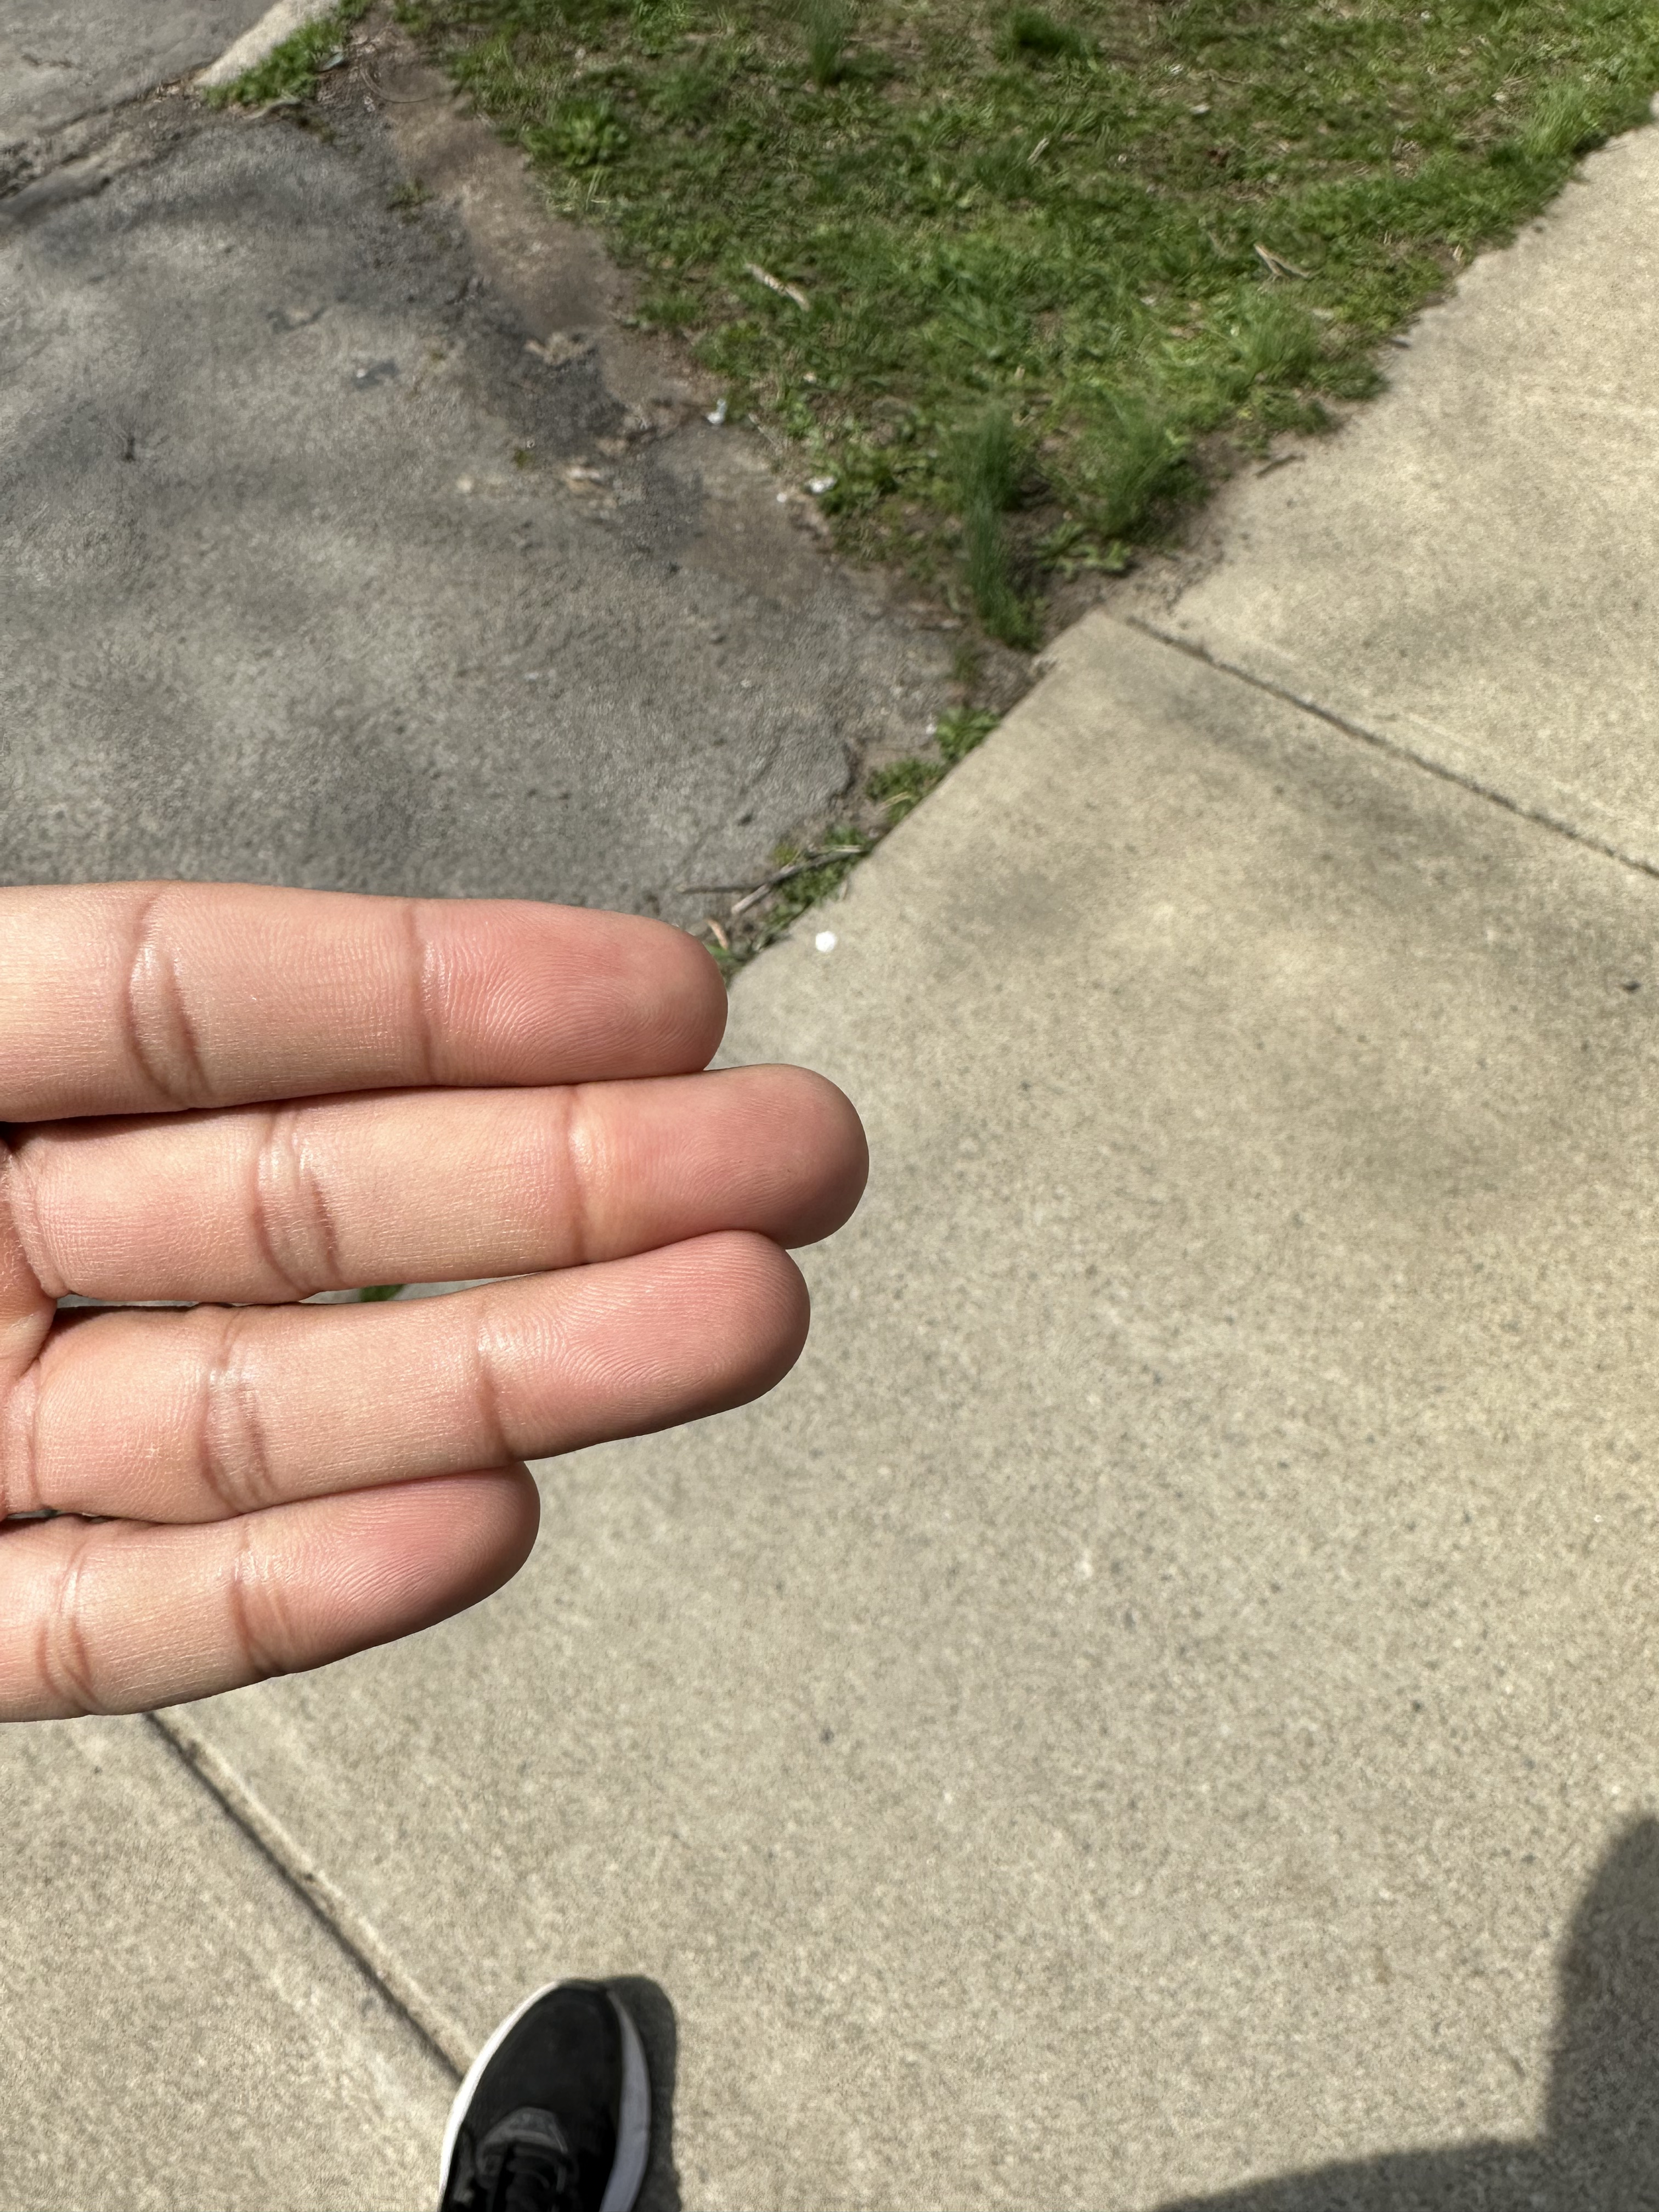finger: (472, 1230, 857, 1444), (251, 1451, 558, 1669), (408, 876, 739, 1073), (566, 1064, 936, 1238)
